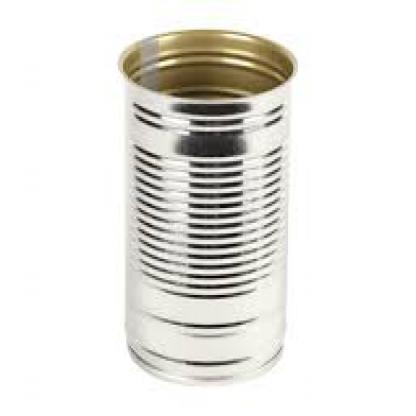METAL: (115, 21, 296, 382)
